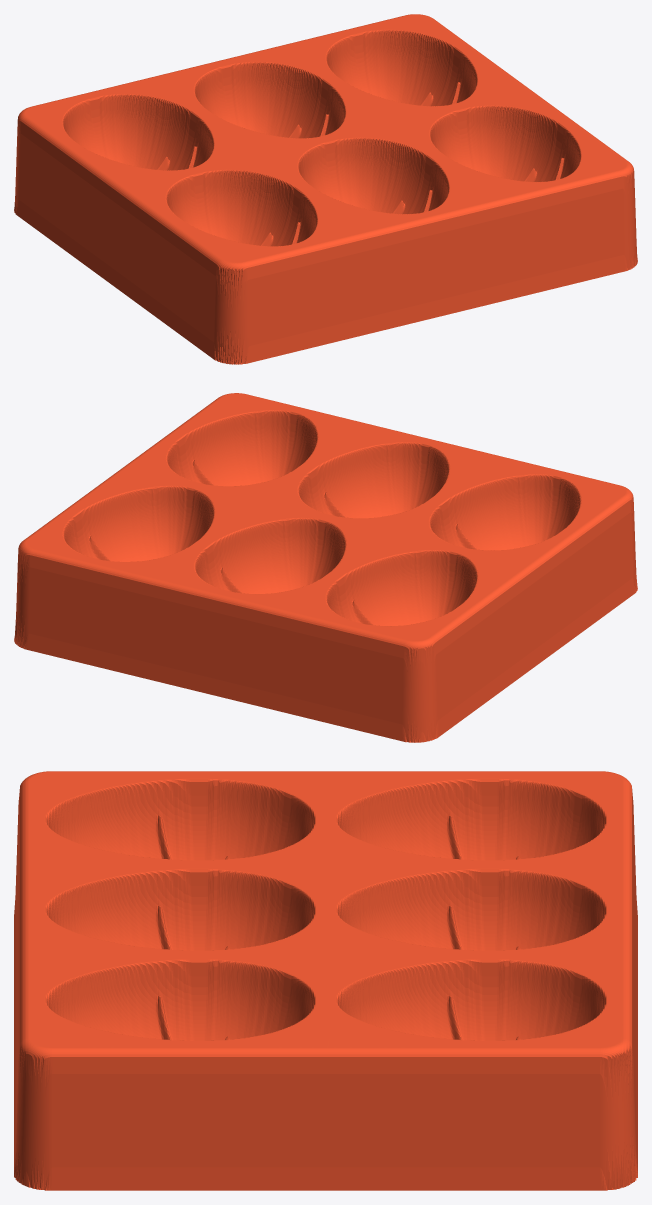
Rendered from mold.glb.
3 renders of one model, top to bottom at view 1: azimuth 30°, elevation 25°; view 2: azimuth 150°, elevation 25°; view 3: azimuth 270°, elevation 25°, orthographic. The views are drawn at different scales.
Parts seen in each view (by area): view 1: geometry_0; view 2: geometry_0; view 3: geometry_0.
Boxes of the visible parts, x1=… form: geometry_0: x1=14, y1=14, x2=637, y2=364; geometry_0: x1=14, y1=393, x2=637, y2=742; geometry_0: x1=14, y1=771, x2=637, y2=1190.
Size of the model in its own units: 0.1633 by 0.036 by 0.1492.
